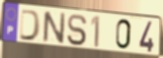0: (115, 19, 133, 52)
1: (90, 15, 101, 49)
4: (138, 21, 155, 54)
D: (18, 9, 42, 43)
N: (42, 11, 67, 46)
S: (66, 13, 88, 47)
